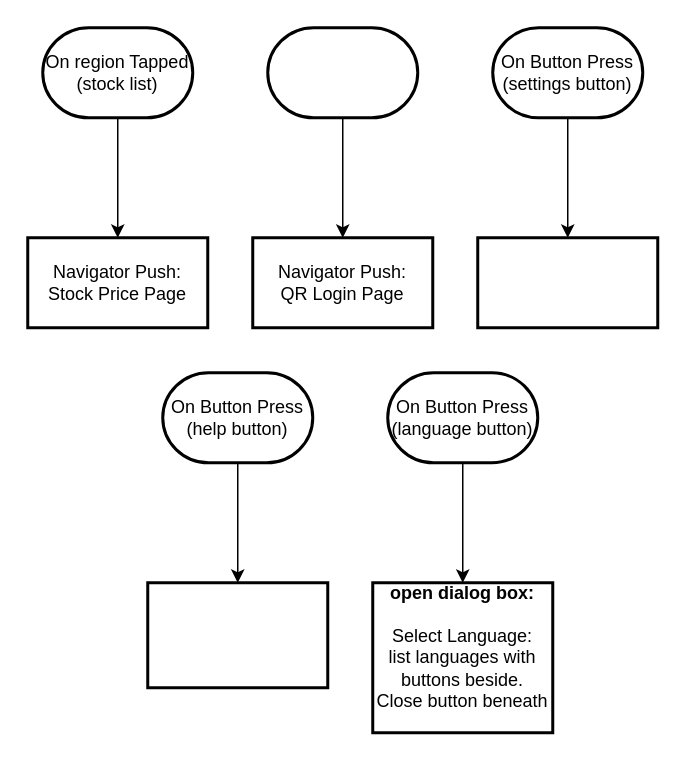
The diagram is 684 pixels wide and 759 high, and some of its shapes have lost their labels. Each missing label, with the centre of its shape:
Navigator Push: Settings Page: point (567, 282)
On Button Press (login button): point (342, 72)
URL Launcher: https://helppage.com InApp view: point (237, 634)
